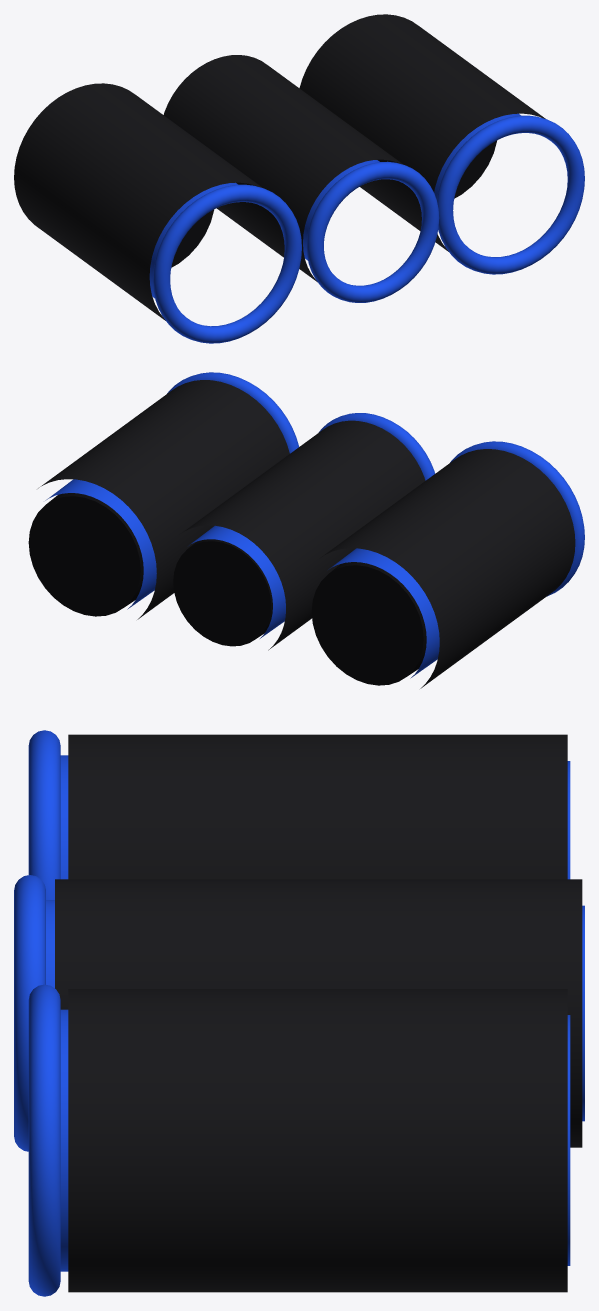
Rendered from akrapovic-exhaust-tips.glb.
3 views of the same model, one above another, from view 1: azimuth 30°, elevation 25°; view 2: azimuth 150°, elevation 25°; view 3: azimuth 270°, elevation 25° (orthographic). The views are drawn at different scales.
Parts seen in each view (by area): view 1: Tip_Left_Carbon_Sleeve, Tip_Right_Carbon_Sleeve, Tip_Center_Carbon_Sleeve, Tip_Left_Titanium_Lip, Tip_Right_Titanium_Lip, Tip_Center_Titanium_Lip, Tip_Right_Inner_Baffle, Tip_Left_Inner_Baffle, Tip_Left_Titanium_Barrel, Tip_Center_Titanium_Barrel, Tip_Right_Titanium_Barrel; view 2: Tip_Left_Carbon_Sleeve, Tip_Right_Carbon_Sleeve, Tip_Center_Carbon_Sleeve, Tip_Left_Inner_Baffle, Tip_Right_Inner_Baffle, Tip_Center_Inner_Baffle, Tip_Left_Titanium_Lip, Tip_Right_Titanium_Barrel, Tip_Left_Titanium_Barrel, Tip_Center_Titanium_Barrel, Tip_Right_Titanium_Lip, Tip_Center_Titanium_Lip; view 3: Tip_Right_Carbon_Sleeve, Tip_Left_Carbon_Sleeve, Tip_Center_Carbon_Sleeve, Tip_Right_Titanium_Lip, Tip_Center_Titanium_Lip, Tip_Left_Titanium_Lip, Tip_Right_Titanium_Barrel, Tip_Left_Titanium_Barrel, Tip_Center_Titanium_Barrel.
Part boxes in pixels (x1,y1,x2,y2): Tip_Left_Carbon_Sleeve: (14,83,262,320); Tip_Right_Carbon_Sleeve: (299,14,545,251); Tip_Center_Carbon_Sleeve: (163,55,403,282); Tip_Left_Titanium_Lip: (153,184,301,343); Tip_Right_Titanium_Lip: (436,115,584,274); Tip_Center_Titanium_Lip: (306,161,439,302); Tip_Right_Inner_Baffle: (454,140,497,198); Tip_Left_Inner_Baffle: (171,209,214,267); Tip_Left_Titanium_Barrel: (149,182,237,298); Tip_Center_Titanium_Barrel: (303,160,379,260); Tip_Right_Titanium_Barrel: (434,113,520,199); Tip_Left_Carbon_Sleeve: (321,449,575,688); Tip_Right_Carbon_Sleeve: (38,380,289,619); Tip_Center_Carbon_Sleeve: (182,420,425,650); Tip_Left_Inner_Baffle: (311,562,426,685); Tip_Right_Inner_Baffle: (28,493,143,616); Tip_Center_Inner_Baffle: (173,539,272,646); Tip_Left_Titanium_Lip: (450,441,584,596); Tip_Right_Titanium_Barrel: (45,479,156,609); Tip_Left_Titanium_Barrel: (328,548,439,678); Tip_Center_Titanium_Barrel: (189,525,285,638); Tip_Right_Titanium_Lip: (167,372,299,453); Tip_Center_Titanium_Lip: (318,413,435,480); Tip_Right_Carbon_Sleeve: (68,989,567,1292); Tip_Left_Carbon_Sleeve: (68,734,567,879); Tip_Center_Carbon_Sleeve: (55,879,582,1147); Tip_Right_Titanium_Lip: (28,984,60,1296); Tip_Center_Titanium_Lip: (14,875,45,1151); Tip_Left_Titanium_Lip: (28,730,60,899); Tip_Right_Titanium_Barrel: (60,1009,570,1271); Tip_Left_Titanium_Barrel: (60,755,570,879); Tip_Center_Titanium_Barrel: (46,900,584,1121).
Bounding box in the file's own units: 0.313 × 0.107 × 0.1955.
